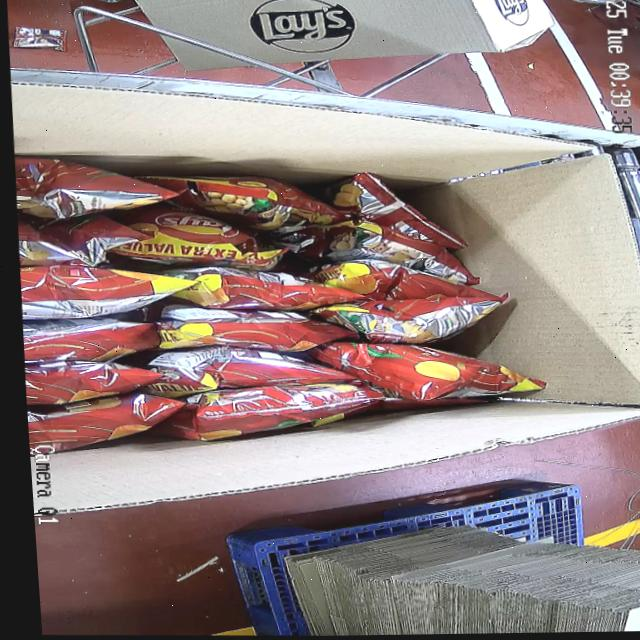MASALA: (10, 147, 552, 464)
